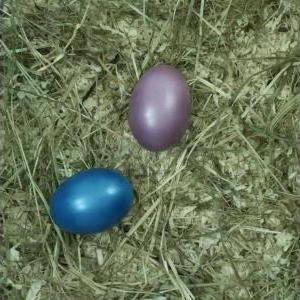egg: (129, 61, 191, 151), (50, 168, 133, 235)
